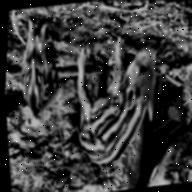boar: (61, 24, 184, 173)
